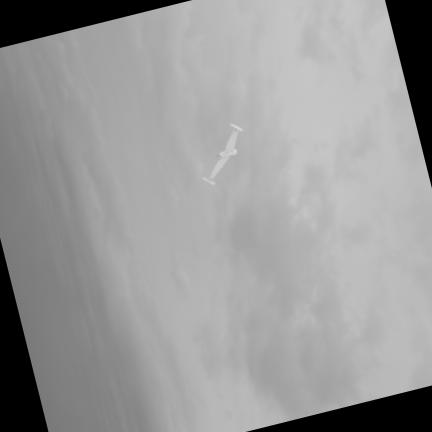Shahed: (202, 124, 241, 184)
